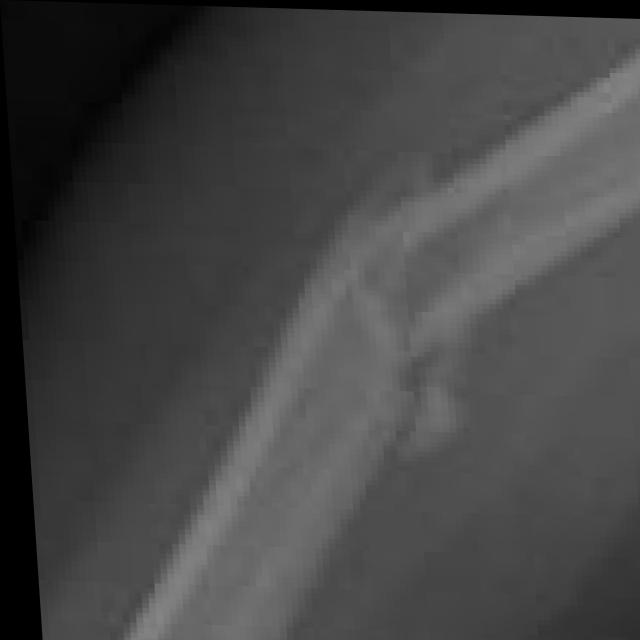fracture: (23, 8, 640, 640)
